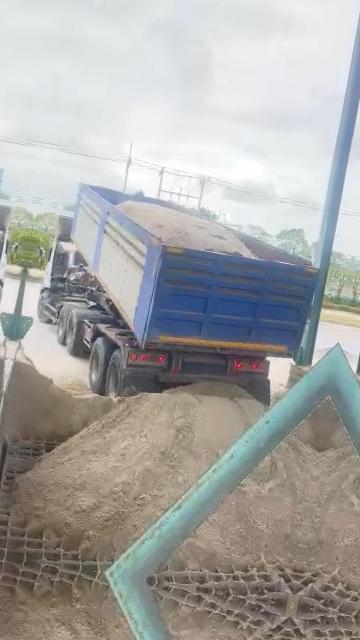sand: (14, 383, 263, 559), (174, 437, 318, 566), (5, 353, 116, 440), (117, 201, 253, 257), (296, 397, 328, 451)
